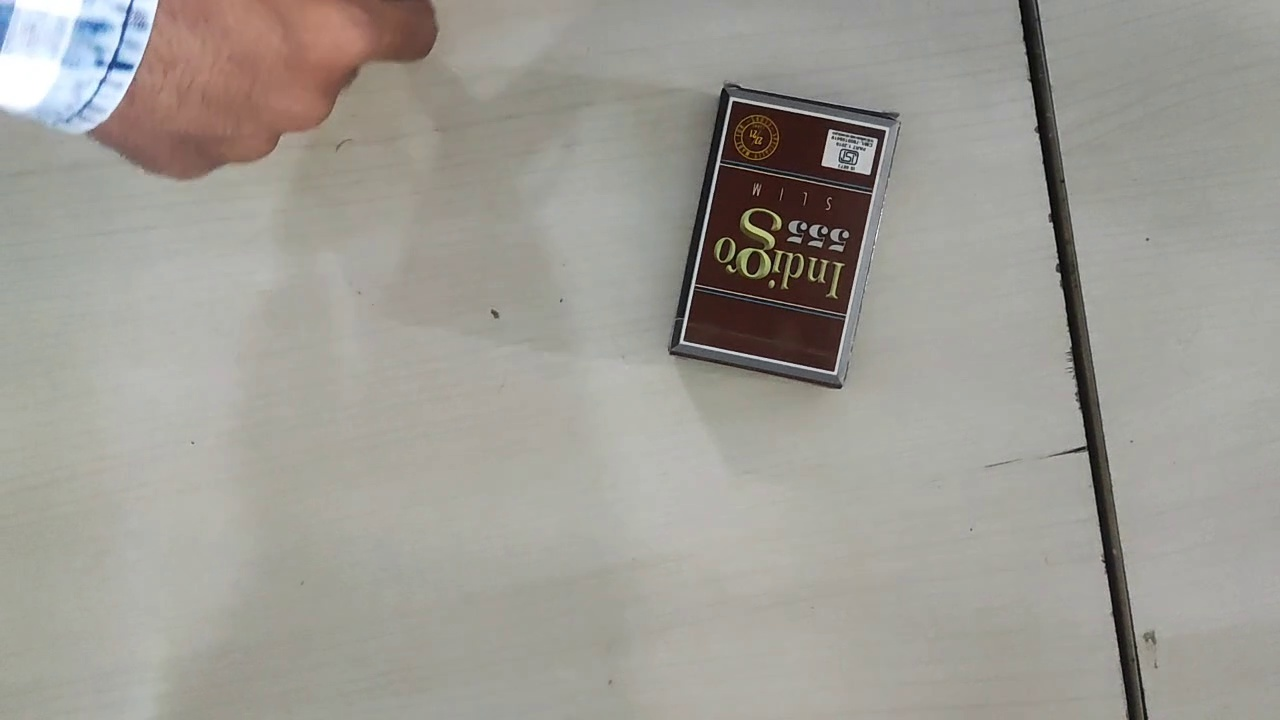BEX: (682, 97, 887, 373)
